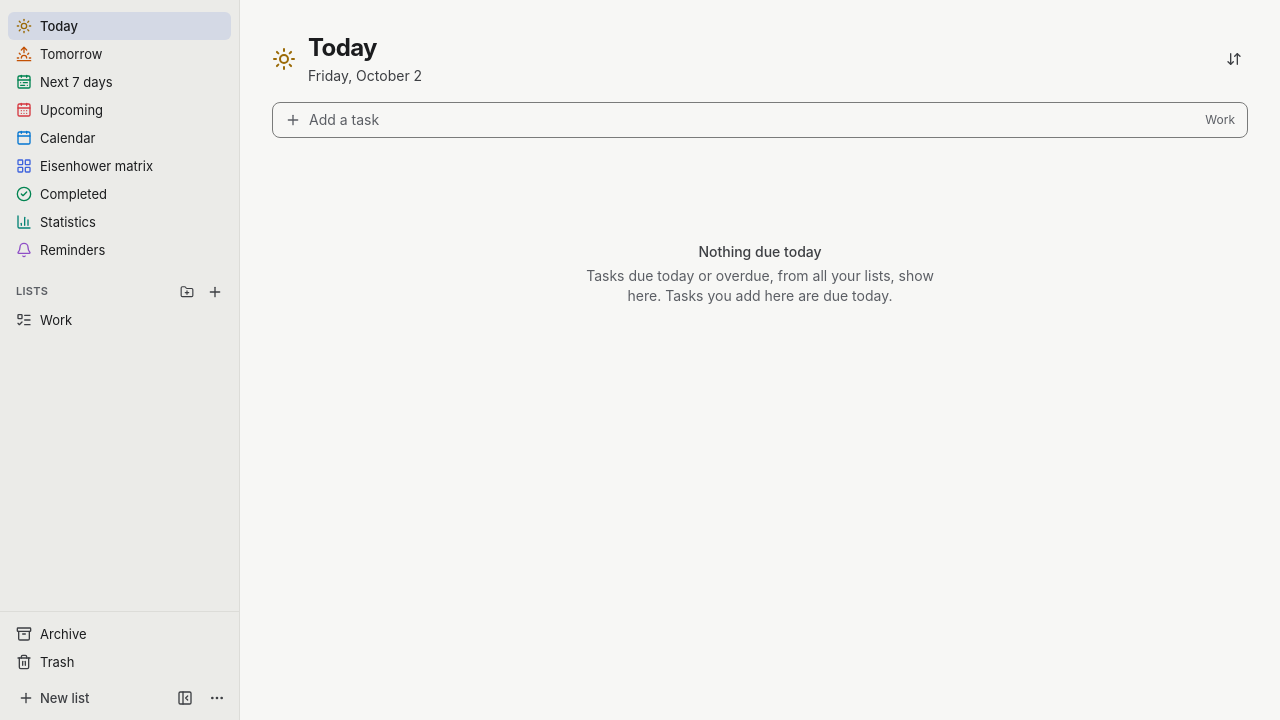
Scenario: Completed › opens from the sidebar and shows the empty state
What coordinates should you click on to do the following:
click the button "Completed"
I would click on:
 (62, 194)
Its box is [16,186,107,202].
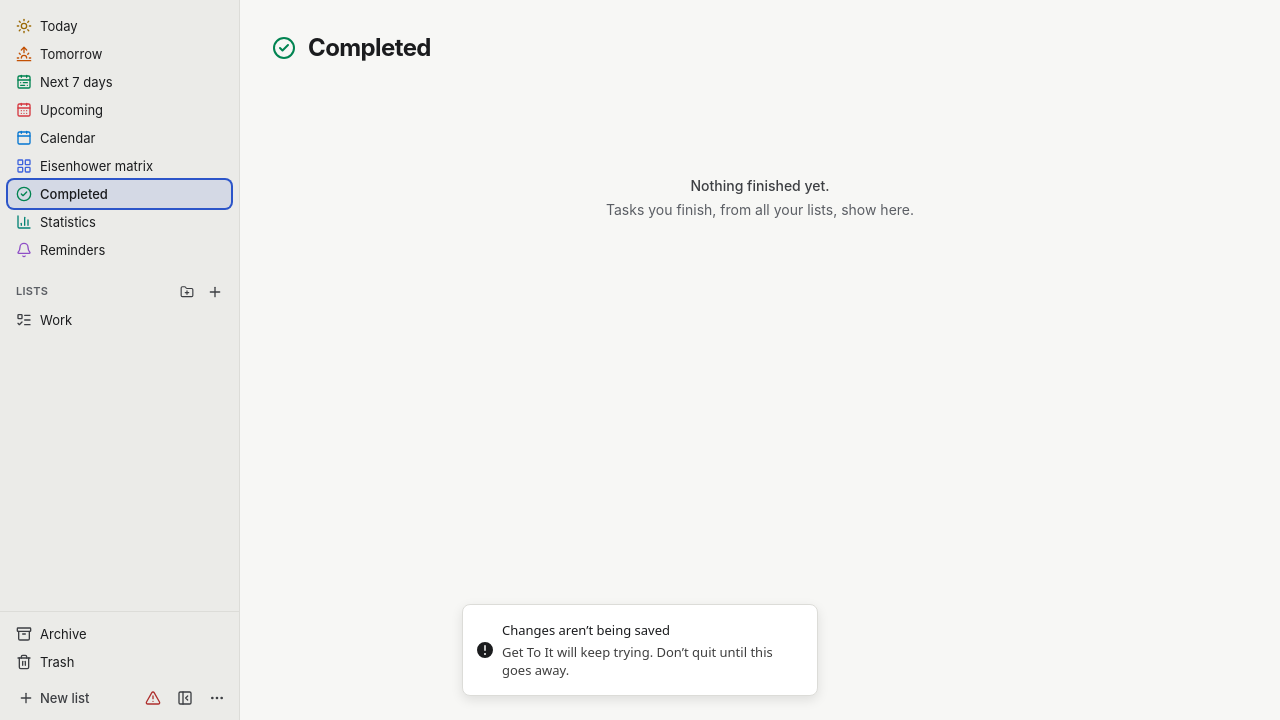
Now the heading "Completed" is shown, box [308,33,431,62]
Now the text "Nothing finished yet." is shown, box [690,176,830,196]
